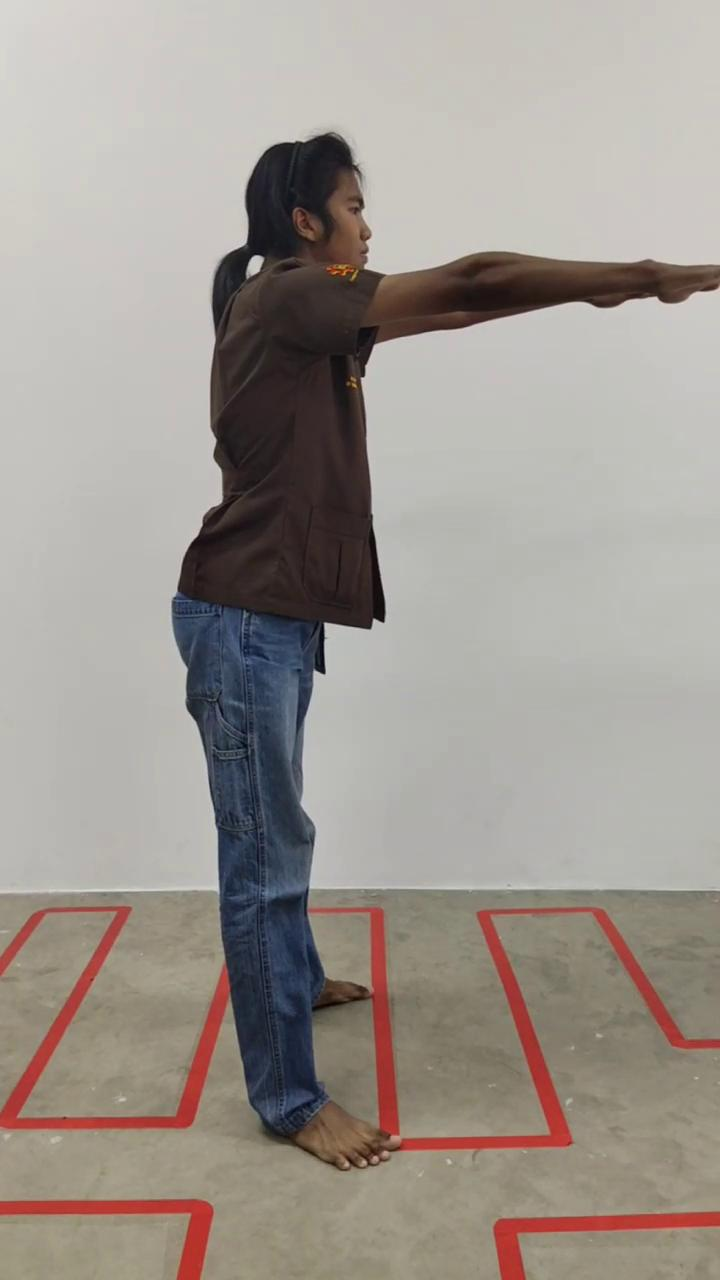squat up: (173, 132, 720, 1176)
